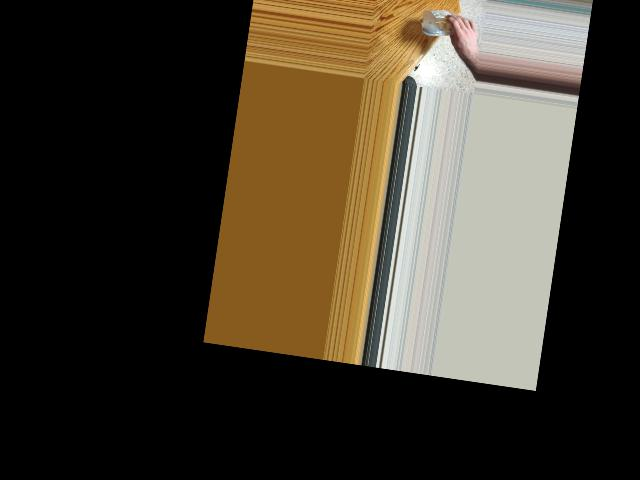cheese: (425, 5, 470, 44)
